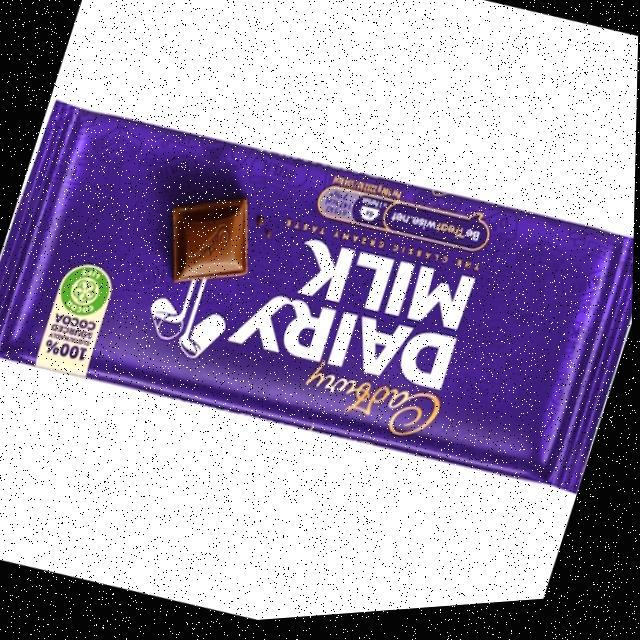cadbury_chocolate: (10, 98, 623, 497)
